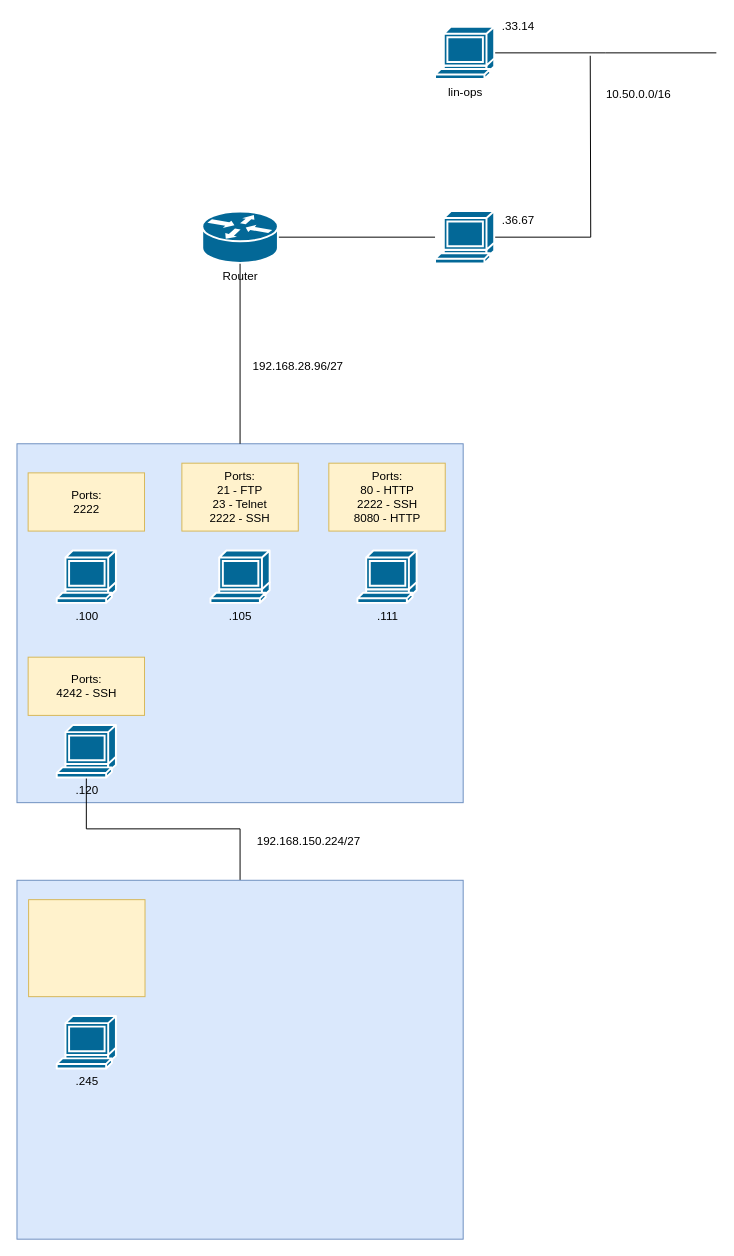
This 734x1256 diagram has some shape labels left out. The centre of each missing label's shape, as x and y in pixels:
"jump" belongs at point 464,237.
"Ports: 135 139 445 3389 9999" belongs at point 86,948.
